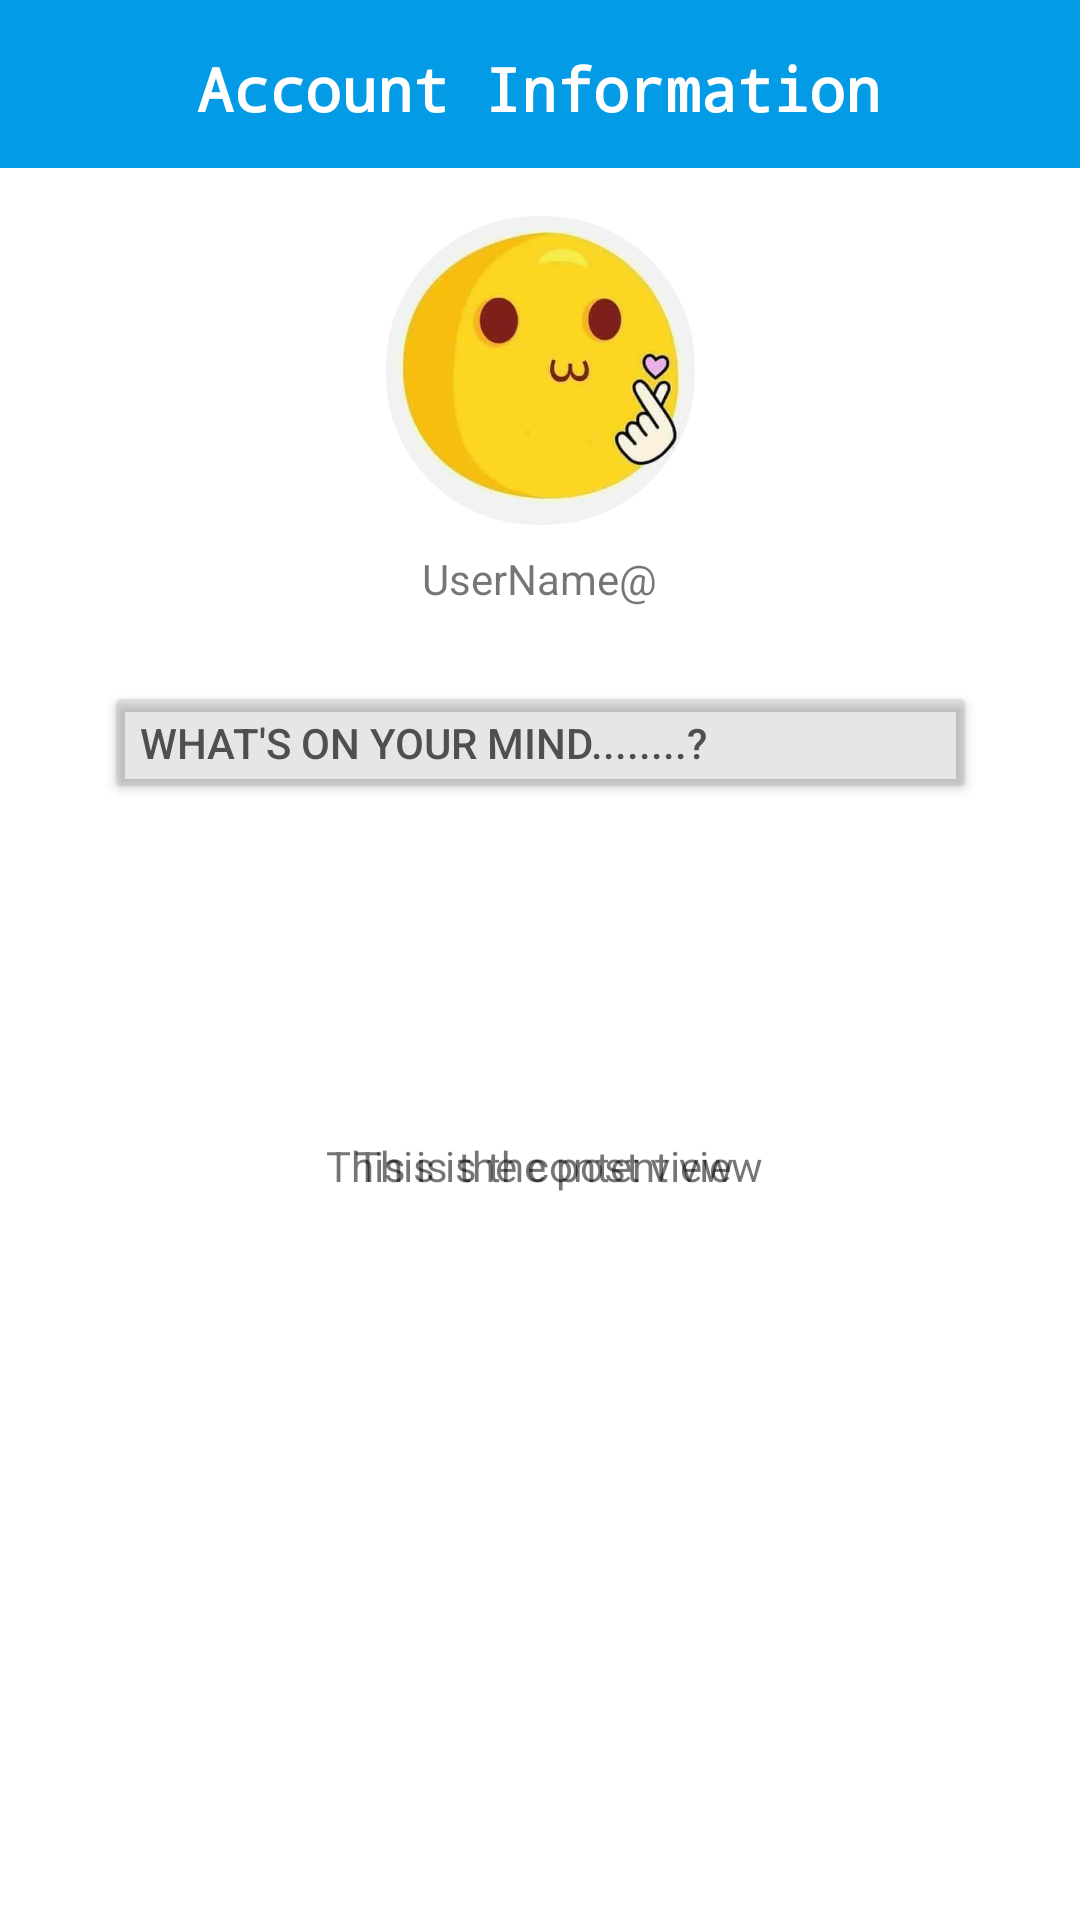

Where icons sit on this 1080 x 1920 app screen, as (x1=x1, y1=y1, x2=x2, y2=y2):
profile picture: (x1=397, y1=227, x2=683, y2=504)
